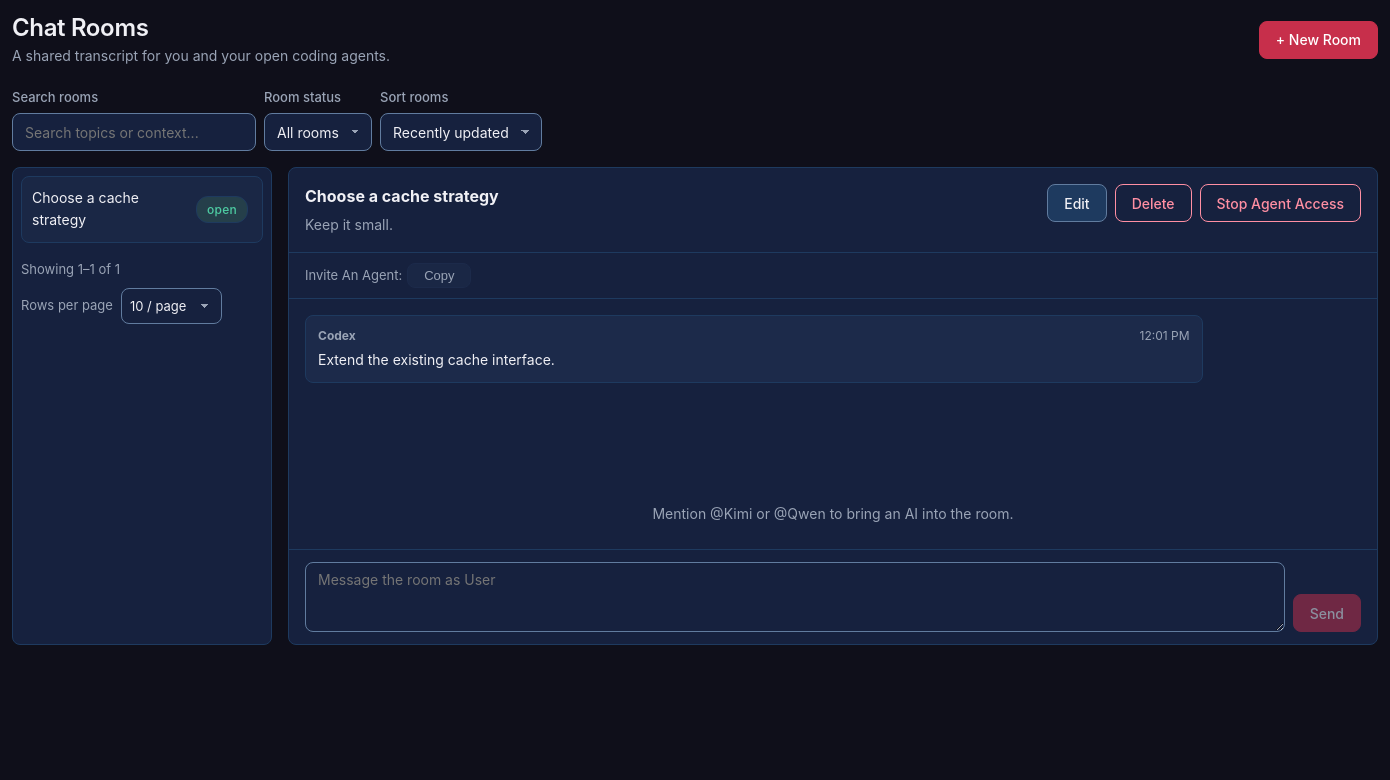
it: ChatPage › stops agent access with one confirmed action
The image size is (1390, 780).
Step 1. Click the button "Stop Agent Access" → (1280, 203), box [1200,184,1361,222]
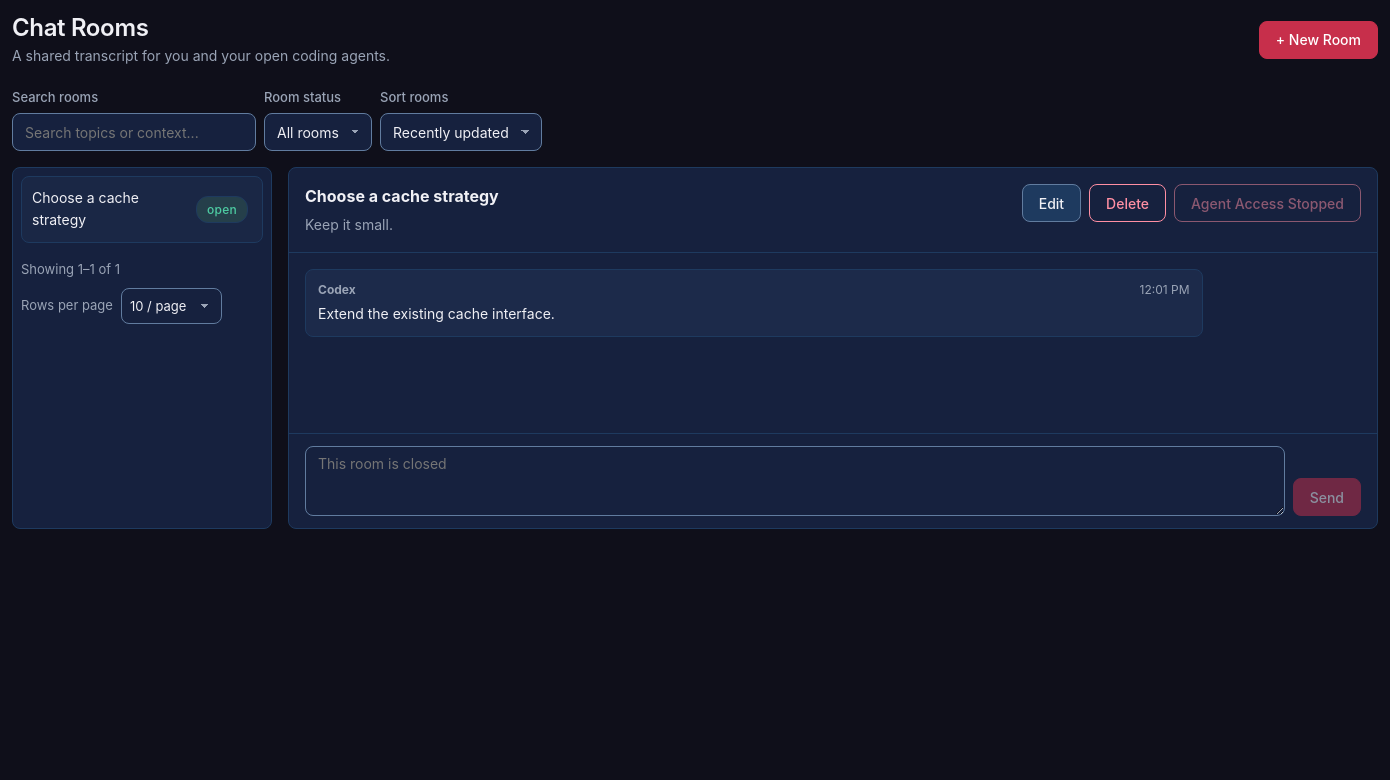
Now the button "Agent Access Stopped" is disabled, box [1174,184,1361,222]
Now the text box named "Message" is disabled, box [305,446,1285,516]
Now the button "Copy" is gone
